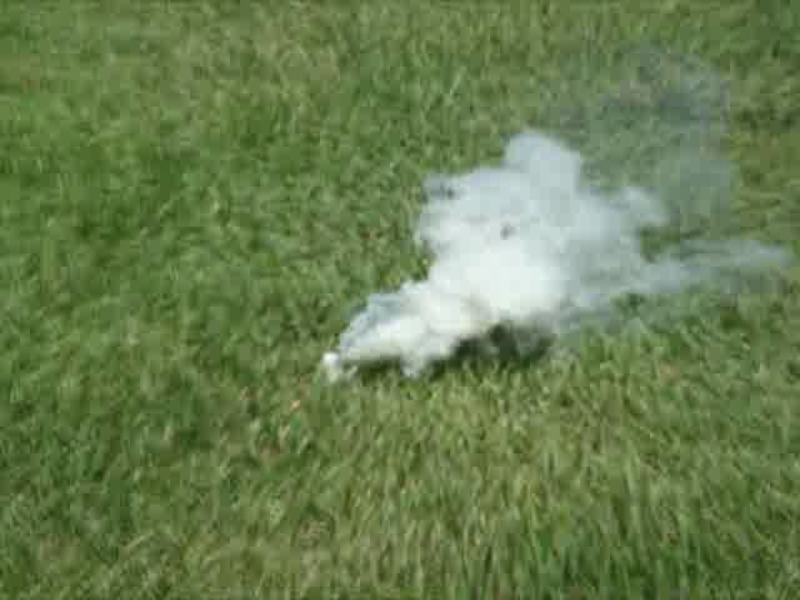smoke: (426, 160, 632, 327)
